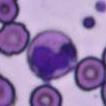N: (26, 30, 78, 80)
